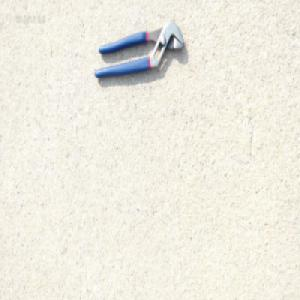Pliers: (92, 21, 184, 81)
